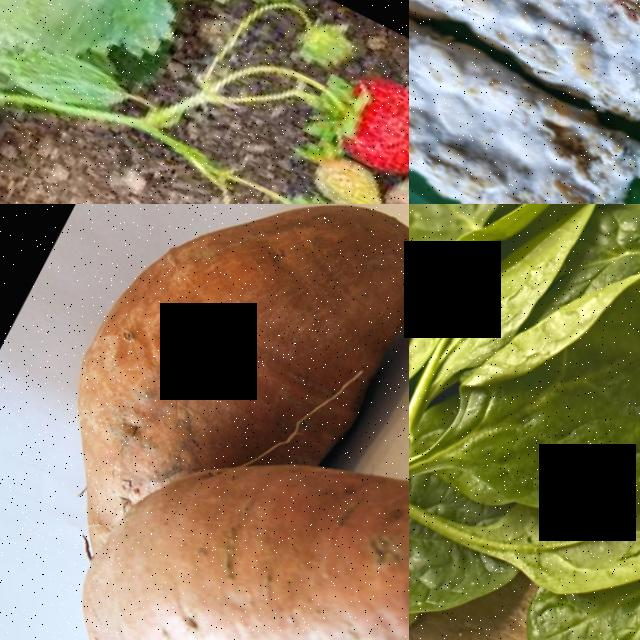spinach: (425, 207, 640, 575), (409, 386, 518, 640), (409, 204, 509, 270)
strawberry: (324, 64, 409, 202)
sweet potato: (47, 356, 409, 640), (69, 204, 409, 481)
tempeh: (409, 0, 640, 204), (409, 0, 640, 141)
